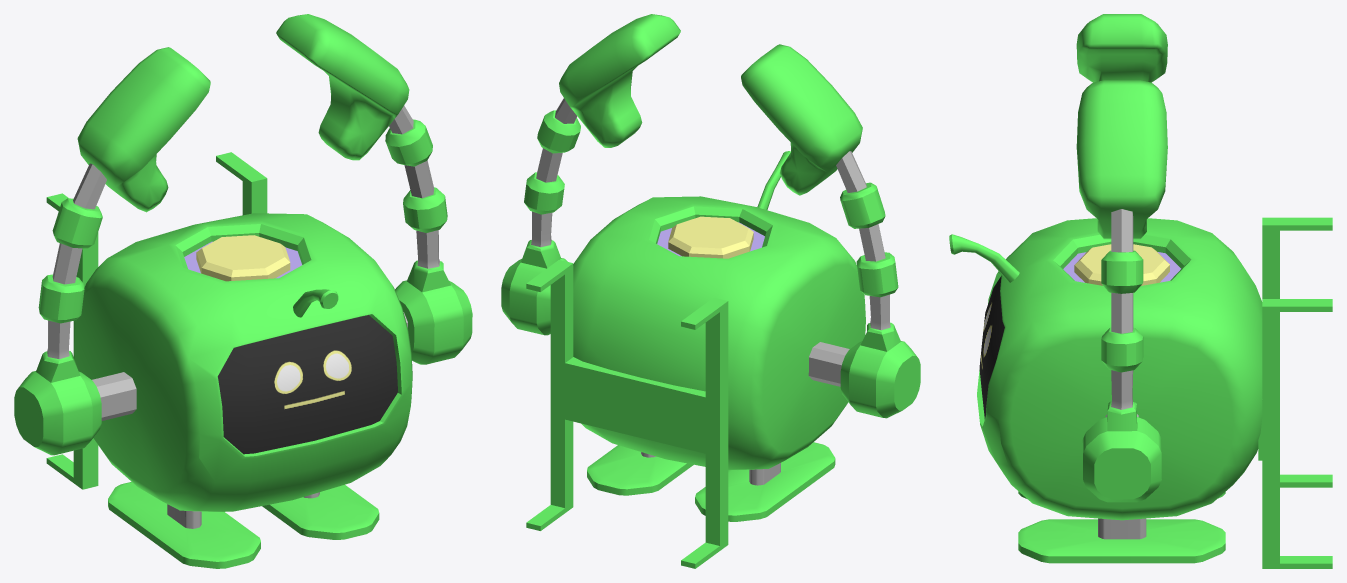
Rendered from Chara_02G_Anim.fbx.
3 renders of one model, left to right at view 1: azimuth 30°, elevation 25°; view 2: azimuth 150°, elevation 25°; view 3: azimuth 270°, elevation 25°, orthographic. The views are drawn at different scales.
Parts seen in each view (by area): view 1: Face, pCube48 (×2), R_Hand, L_Hand, R_Leg, L_Leg, pCube51, pCube50, pCube47, Horn; view 2: Face, pCube48 (×2), R_Hand, pCube52, L_Hand, pCube51, pCube50, R_Leg, L_Leg, pCube47, Horn; view 3: Face, pCube48, L_Hand, L_Leg, pCube50, R_Hand, pCube51, Horn.
Part boxes in pixels (x1=…): Face: x1=74, y1=213, x2=412, y2=511; pCube48 (×2): x1=14, y1=105, x2=472, y2=455; R_Hand: x1=77, y1=47, x2=210, y2=212; L_Hand: x1=276, y1=14, x2=409, y2=160; R_Leg: x1=108, y1=482, x2=260, y2=568; L_Leg: x1=262, y1=484, x2=379, y2=539; pCube51: x1=46, y1=193, x2=98, y2=489; pCube50: x1=216, y1=152, x2=267, y2=215; pCube47: x1=92, y1=372, x2=136, y2=420; Horn: x1=293, y1=289, x2=338, y2=317; Face: x1=573, y1=196, x2=865, y2=470; pCube48 (×2): x1=501, y1=98, x2=920, y2=418; R_Hand: x1=741, y1=44, x2=862, y2=195; pCube52: x1=565, y1=357, x2=705, y2=453; L_Hand: x1=559, y1=14, x2=680, y2=147; pCube51: x1=681, y1=297, x2=728, y2=568; pCube50: x1=526, y1=260, x2=573, y2=530; R_Leg: x1=695, y1=442, x2=835, y2=521; L_Leg: x1=587, y1=445, x2=693, y2=495; pCube47: x1=808, y1=342, x2=849, y2=386; Horn: x1=757, y1=151, x2=790, y2=209; Face: x1=977, y1=218, x2=1262, y2=520; pCube48: x1=1082, y1=209, x2=1161, y2=502; L_Hand: x1=1076, y1=80, x2=1167, y2=239; L_Leg: x1=1018, y1=518, x2=1225, y2=563; pCube50: x1=1262, y1=299, x2=1332, y2=568; R_Hand: x1=1076, y1=14, x2=1167, y2=82; pCube51: x1=1262, y1=217, x2=1332, y2=487; Horn: x1=949, y1=234, x2=1019, y2=282.
Size of the model in its own units: 186 by 198 by 146.
